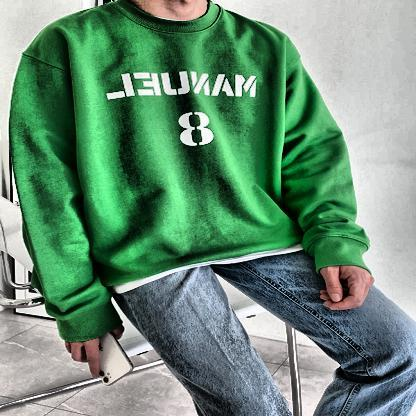sweater: (8, 0, 375, 343)
trousers: (74, 244, 416, 416)
